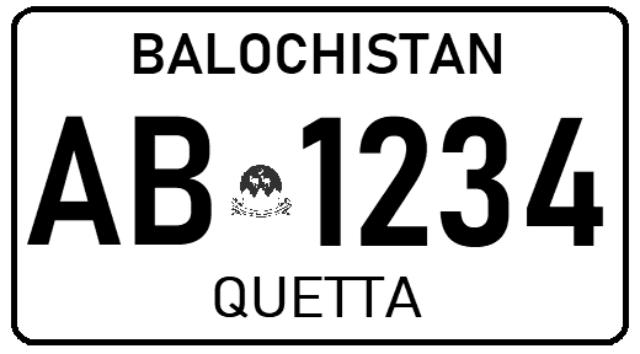Number: (24, 104, 612, 258)
